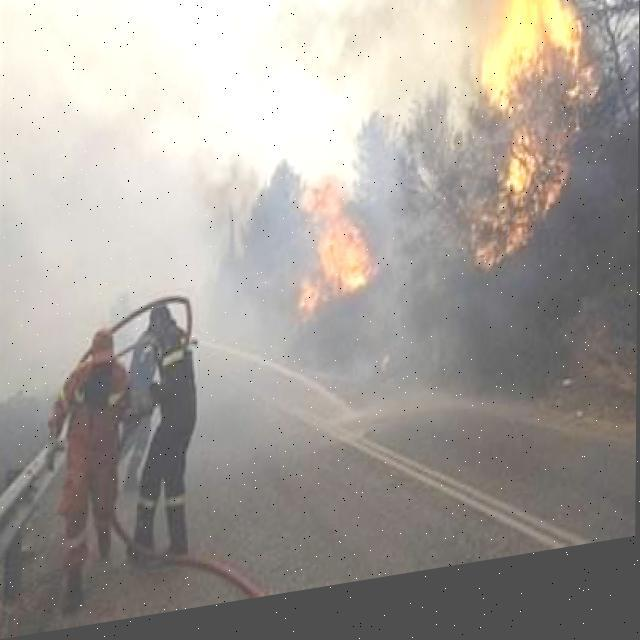Fire: (296, 170, 386, 331)
